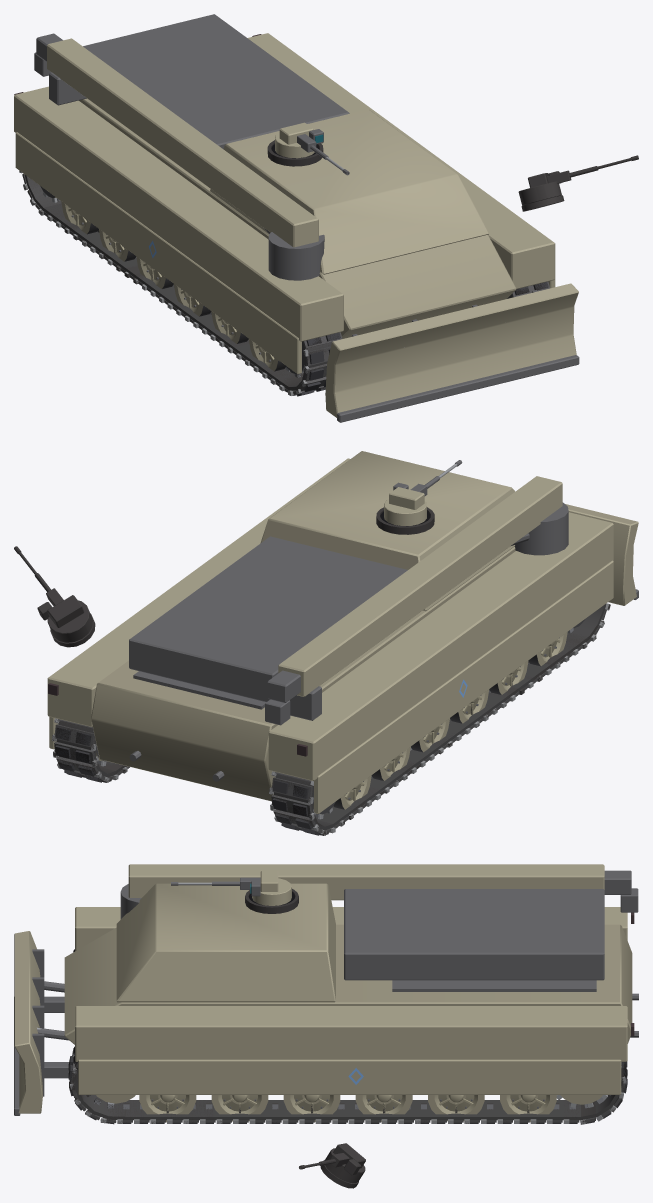
File: recoveryVehicle__brem_1.glb
3 renders of one model, top to bottom at view 1: azimuth 30°, elevation 25°; view 2: azimuth 150°, elevation 25°; view 3: azimuth 270°, elevation 25°, orthographic. The views are drawn at different scales.
Visible parts, largest first — view 1: Hull_Mesh, Track_L_Mesh, Wreck, Turret_Mesh; view 2: Hull_Mesh, Track_L_Mesh, Wreck, Track_R_Mesh, Turret_Mesh; view 3: Hull_Mesh, Track_R_Mesh, Wreck, Turret_Mesh, Wheel_R4_Mesh, Wheel_R3_Mesh, Wheel_R5_Mesh, Wheel_R2_Mesh, Wheel_R0_Mesh, Wheel_R1_Mesh, Gun_Mesh.
Boxes of the visible parts, <box> form: Hull_Mesh: <box>14,14,579,422</box>; Track_L_Mesh: <box>19,171,342,396</box>; Wreck: <box>20,140,638,395</box>; Turret_Mesh: <box>275,122,323,158</box>; Hull_Mesh: <box>47,451,638,813</box>; Track_L_Mesh: <box>269,603,609,835</box>; Wreck: <box>14,507,610,835</box>; Track_R_Mesh: <box>52,718,129,782</box>; Turret_Mesh: <box>384,482,426,525</box>; Hull_Mesh: <box>14,864,638,1115</box>; Track_R_Mesh: <box>68,1051,627,1124</box>; Wreck: <box>68,889,627,1188</box>; Turret_Mesh: <box>250,871,291,905</box>; Wheel_R4_Mesh: <box>211,1095,268,1121</box>; Wheel_R3_Mesh: <box>283,1095,340,1121</box>; Wheel_R5_Mesh: <box>139,1095,196,1122</box>; Wheel_R2_Mesh: <box>355,1095,412,1122</box>; Wheel_R0_Mesh: <box>500,1095,556,1122</box>; Wheel_R1_Mesh: <box>428,1095,484,1121</box>; Gun_Mesh: <box>171,877,260,889</box>.
Size of what is drawn, in the model's own units: 6.35 by 2.44 by 7.8.
